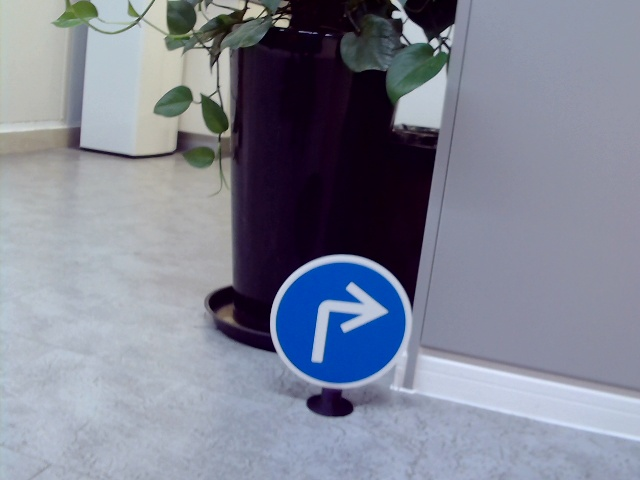turn_right: (313, 274, 384, 367)
